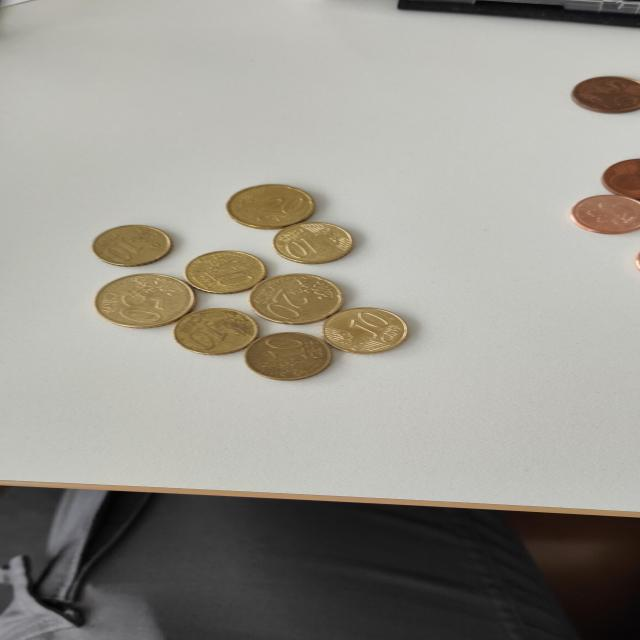10c: (238, 324, 340, 387), (160, 305, 273, 358), (315, 300, 415, 358), (79, 220, 187, 272), (174, 246, 279, 298), (264, 220, 364, 268)
1c: (563, 190, 640, 242)
20c: (244, 269, 349, 328), (217, 179, 326, 234)
50c: (84, 267, 202, 333)
5c: (590, 152, 640, 202)
